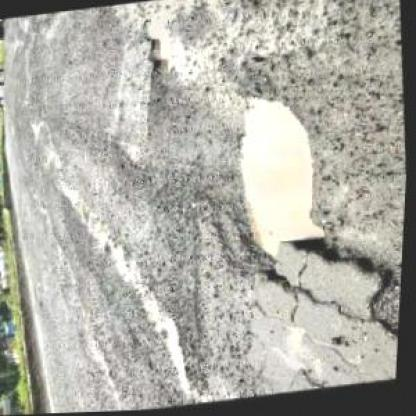pothole: (219, 87, 341, 296)
